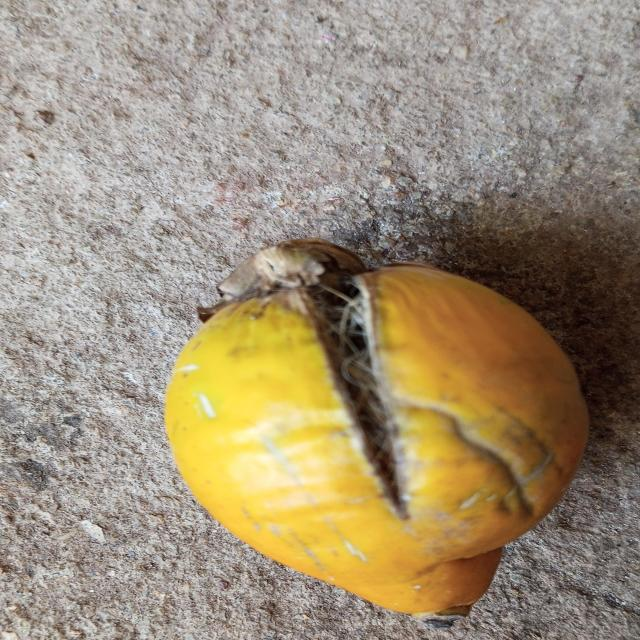damaged: (164, 241, 590, 617)
